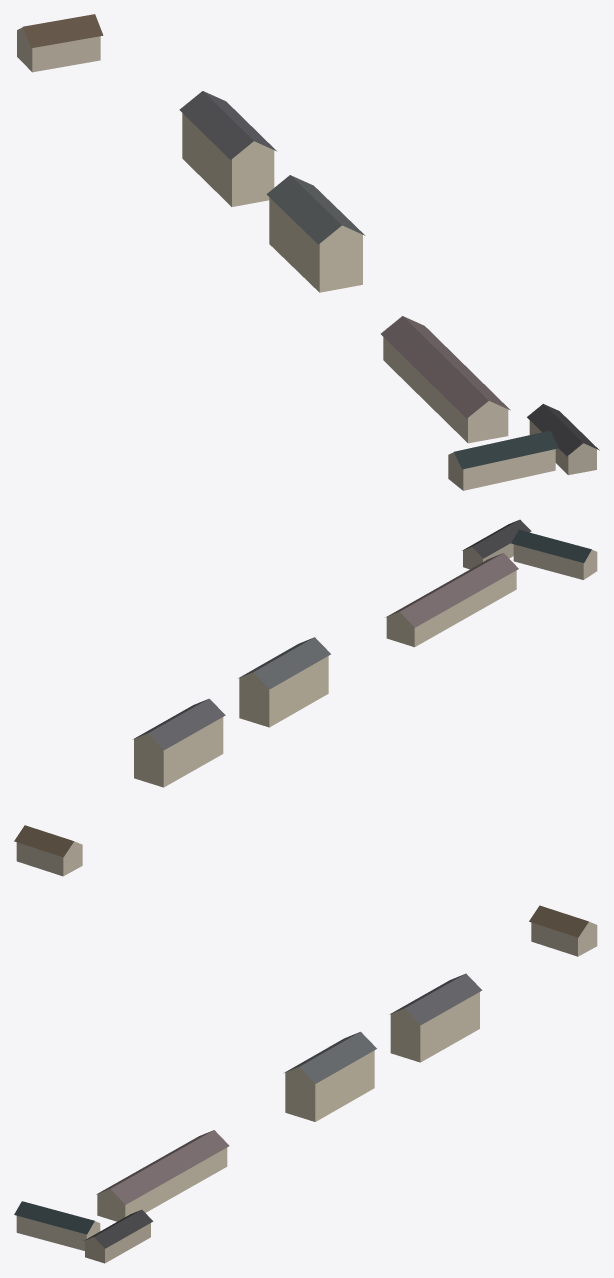
The picture shows the model from 3 angles, top to bottom: view 1: azimuth 30°, elevation 25°; view 2: azimuth 150°, elevation 25°; view 3: azimuth 330°, elevation 25°; orthographic projection. The views are drawn at different scales.
Visible parts, largest first — view 1: tuile; view 2: tuile; view 3: tuile.
Part boxes in pixels (left/top/right/bottom): tuile: left=17, top=14, right=599, bottom=490; tuile: left=14, top=519, right=597, bottom=876; tuile: left=14, top=905, right=597, bottom=1263.
Bounding box in the file's own units: 31.56 × 10.87 × 174.
